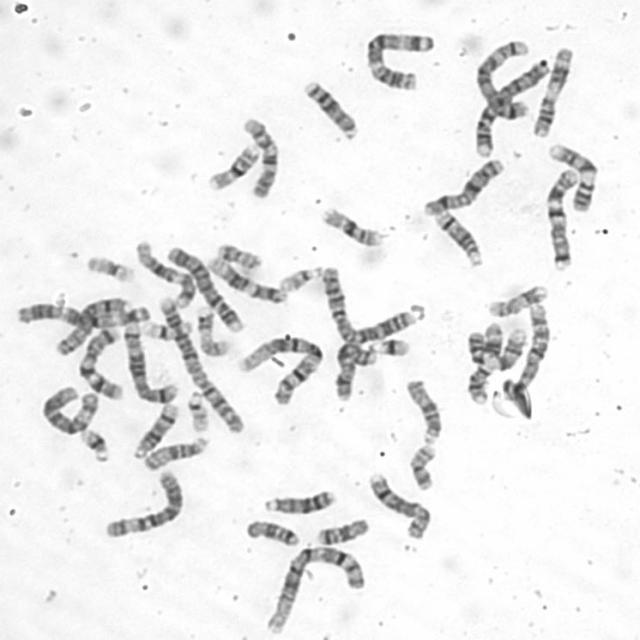A1: (260, 542, 368, 636), (232, 331, 326, 407)
A2: (156, 289, 246, 434), (318, 264, 418, 344)
A3: (362, 29, 437, 92), (11, 298, 137, 330)
B4: (471, 56, 551, 159), (163, 242, 245, 334)
B5: (121, 319, 179, 404), (473, 37, 531, 121)
C10: (513, 304, 559, 398), (240, 114, 282, 200)
C11: (530, 44, 575, 138), (462, 318, 507, 408)
C12: (132, 236, 197, 310), (204, 253, 288, 305)
C6: (100, 467, 184, 540), (38, 383, 100, 437)
C7: (541, 167, 580, 270), (75, 324, 126, 400)
C8: (365, 469, 433, 540), (54, 298, 130, 354)
C9: (545, 141, 599, 213), (467, 321, 529, 372)
D13: (301, 76, 360, 142), (261, 486, 336, 515)
D14: (431, 208, 484, 270), (130, 400, 181, 460)
D15: (141, 432, 210, 473), (402, 376, 443, 444)
E16: (317, 203, 387, 248), (204, 141, 262, 193)
E17: (484, 281, 550, 318), (194, 304, 231, 357)
E18: (242, 516, 302, 548), (313, 515, 370, 547)
F19: (83, 253, 137, 284), (140, 316, 195, 343)
F20: (212, 235, 264, 272), (406, 441, 442, 492)
G21: (77, 426, 112, 463), (372, 334, 412, 358)
G22: (276, 263, 325, 293), (184, 387, 211, 433)
X: (418, 155, 506, 218), (330, 338, 380, 402)
